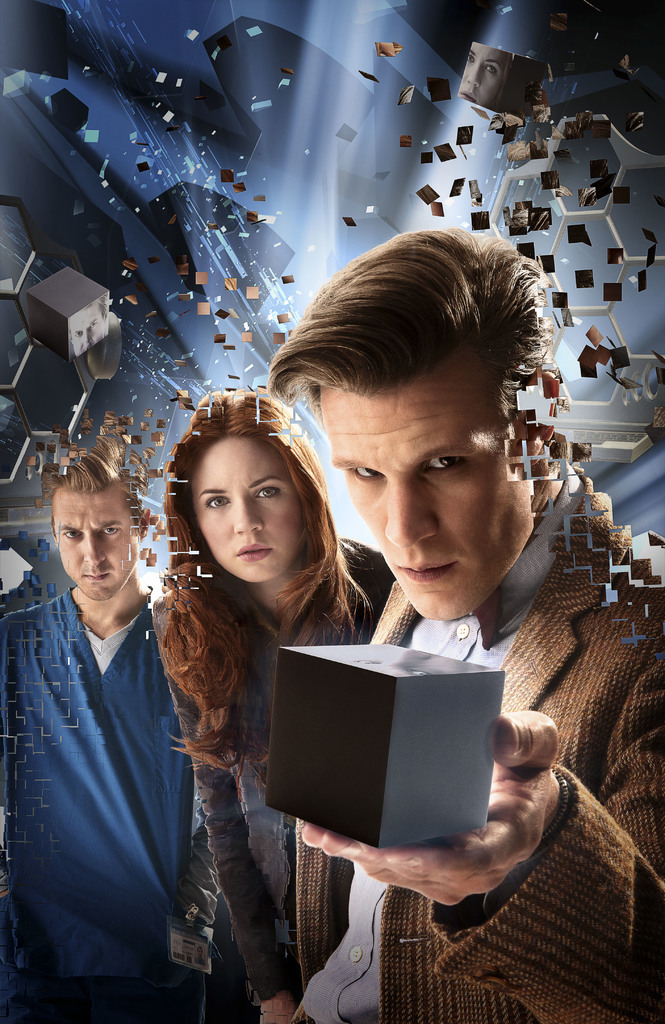face: (313, 366, 545, 630), (191, 430, 308, 587), (47, 466, 143, 602)
